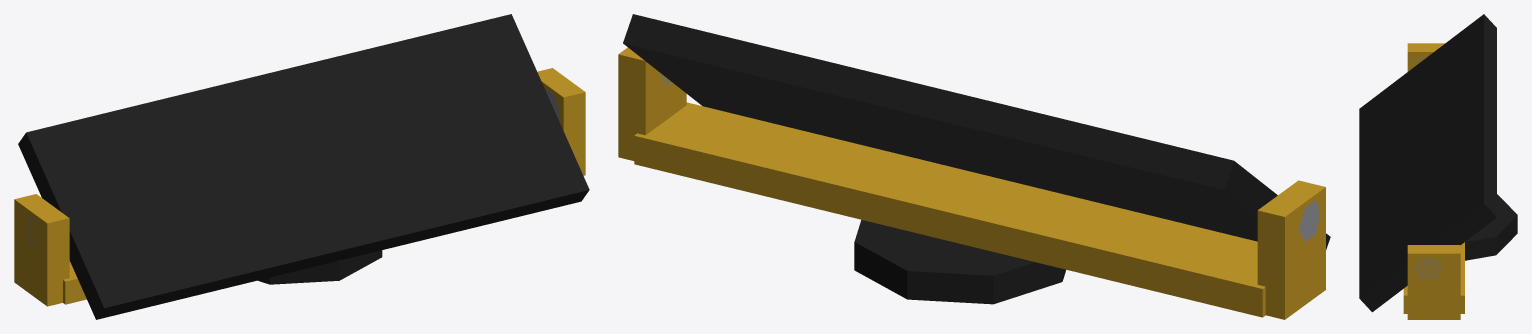
File: dr5_array.obj
3 renders of one model, left to right at view 1: azimuth 30°, elevation 25°; view 2: azimuth 150°, elevation 25°; view 3: azimuth 270°, elevation 25°, orthographic. The views are drawn at different scales.
Visible parts, largest first — view 1: dr5_array; view 2: dr5_array; view 3: dr5_array.
Part boxes in pixels (<box>): dr5_array: <box>14,14,589,319</box>; dr5_array: <box>618,14,1330,319</box>; dr5_array: <box>1359,14,1517,319</box>.
Size of the model in its own units: 2.44 by 0.6754 by 0.7786.
